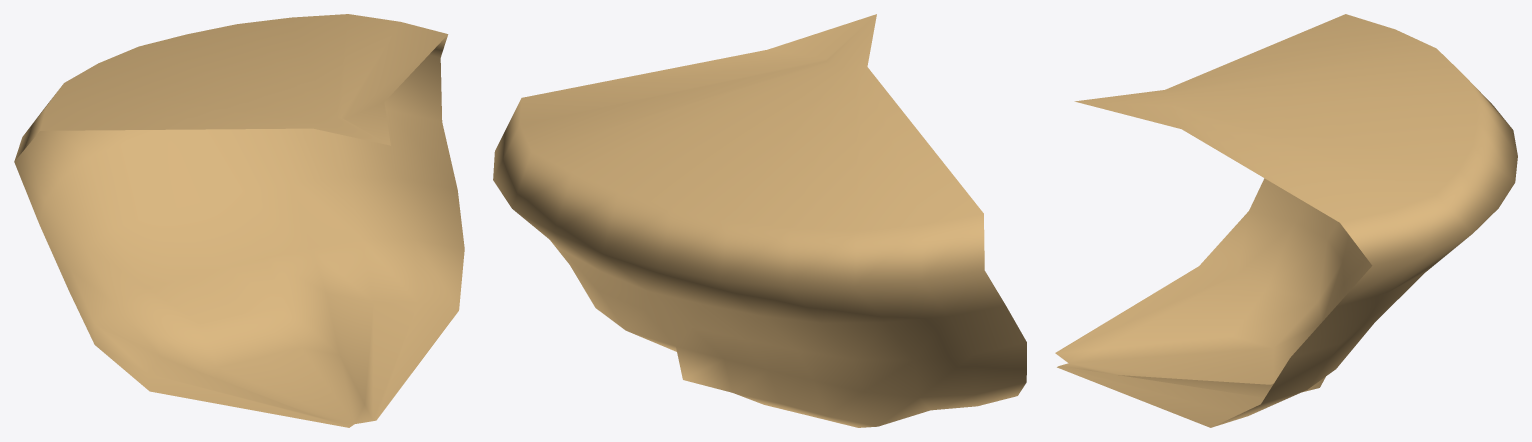
The model's file is abdomen_2_lower.obj.
The picture shows the model from 3 angles, left to right: view 1: azimuth 30°, elevation 25°; view 2: azimuth 150°, elevation 25°; view 3: azimuth 270°, elevation 25°; orthographic projection. The views are drawn at different scales.
Size of the model in its own units: 0.05 by 0.0305 by 0.0446.
